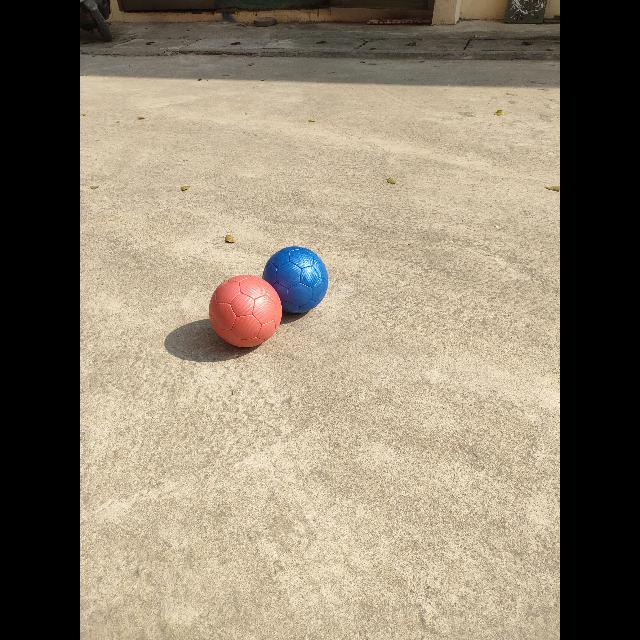B: (262, 246, 328, 314)
R: (209, 275, 282, 348)
